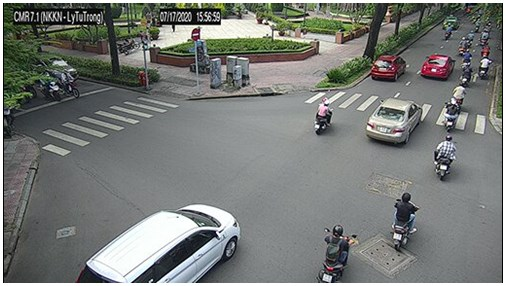xe_hoi: (76, 202, 241, 282), (366, 97, 424, 144), (370, 54, 407, 81), (421, 53, 456, 80), (48, 57, 80, 80), (445, 16, 460, 29)
xe_may: (318, 222, 357, 283), (392, 192, 420, 253), (433, 134, 457, 182), (314, 96, 332, 136), (59, 69, 82, 98), (37, 77, 60, 102), (443, 98, 459, 133), (116, 36, 139, 56), (451, 83, 467, 107), (477, 55, 492, 79), (461, 62, 473, 86), (458, 35, 468, 55), (444, 23, 455, 40), (479, 43, 490, 56), (467, 31, 476, 45), (479, 31, 489, 43), (475, 19, 483, 30), (487, 22, 494, 32), (485, 16, 490, 26)
